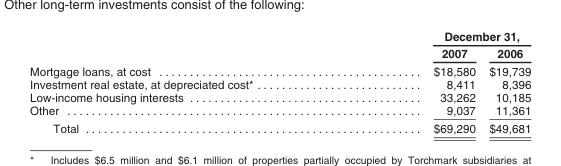table: (29, 28, 530, 134)
table column: (29, 28, 342, 134), (342, 28, 481, 134), (481, 28, 530, 134)
table column header: (29, 28, 530, 61)
table row: (29, 44, 530, 61), (29, 28, 530, 44), (29, 61, 530, 77), (29, 118, 530, 134), (29, 103, 530, 118), (29, 77, 530, 90), (29, 90, 530, 103)
table spanning cell: (342, 28, 530, 44)
